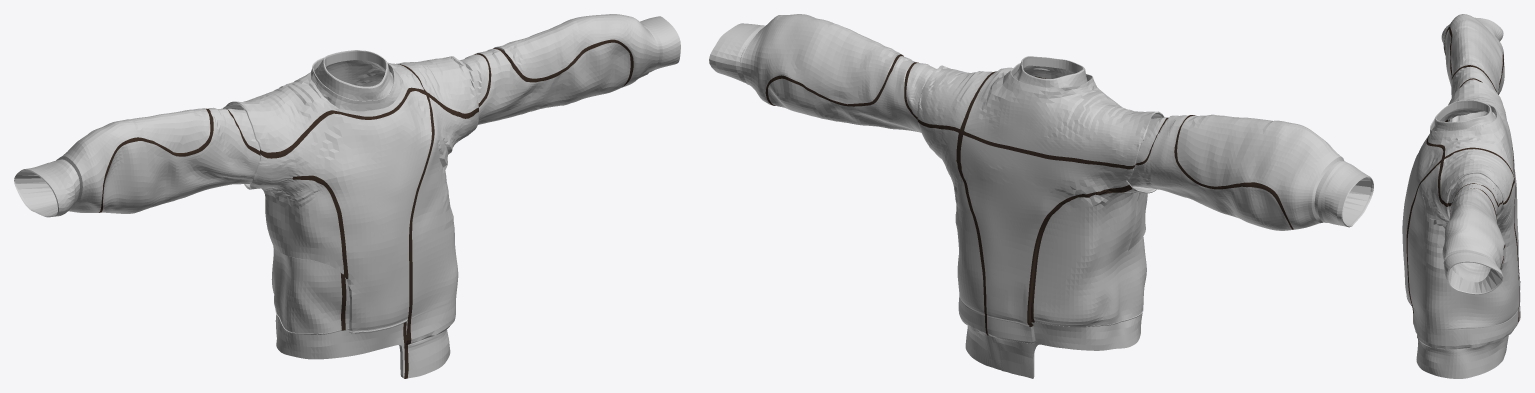
Rendered from starlight_tem.obj.
3 views of the same model, side by side, from view 1: azimuth 30°, elevation 25°; view 2: azimuth 150°, elevation 25°; view 3: azimuth 270°, elevation 25° (orthographic). The views are drawn at different scales.
Parts seen in each view (by area): view 1: Plane.003; view 2: Plane.003; view 3: Plane.003.
Part boxes in pixels (x1,y1,x2,y2): Plane.003: (14,14,680,378); Plane.003: (709,14,1373,378); Plane.003: (1402,14,1520,378).
Size of the model in its own units: 1.51 by 0.6791 by 0.305.
